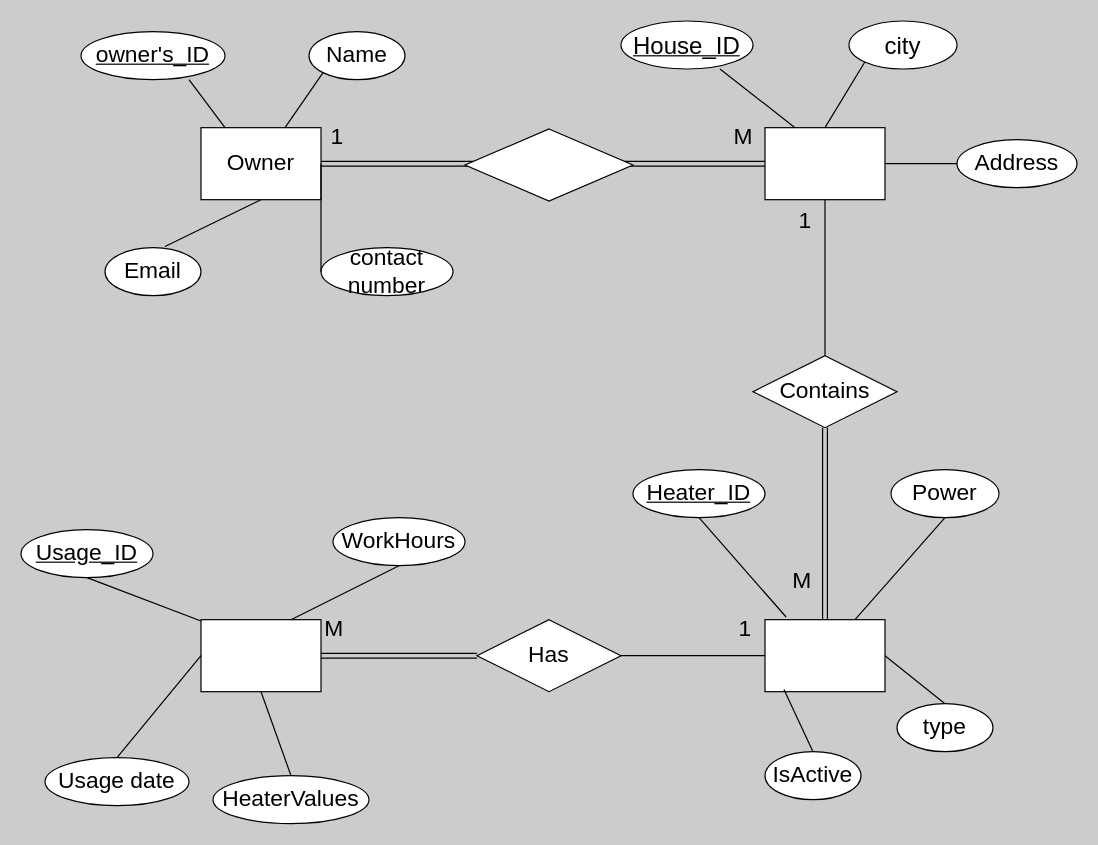
The diagram is 1098 pixels wide and 845 high, and some of its shapes have lost their labels. The shapes that lost their labels are listed below. From the top down, each one's centre as x and y in pixels, then its label:
the point at 548,164: Owns
the point at 824,163: House
the point at 260,655: Daily Usage
the point at 824,655: Heater
